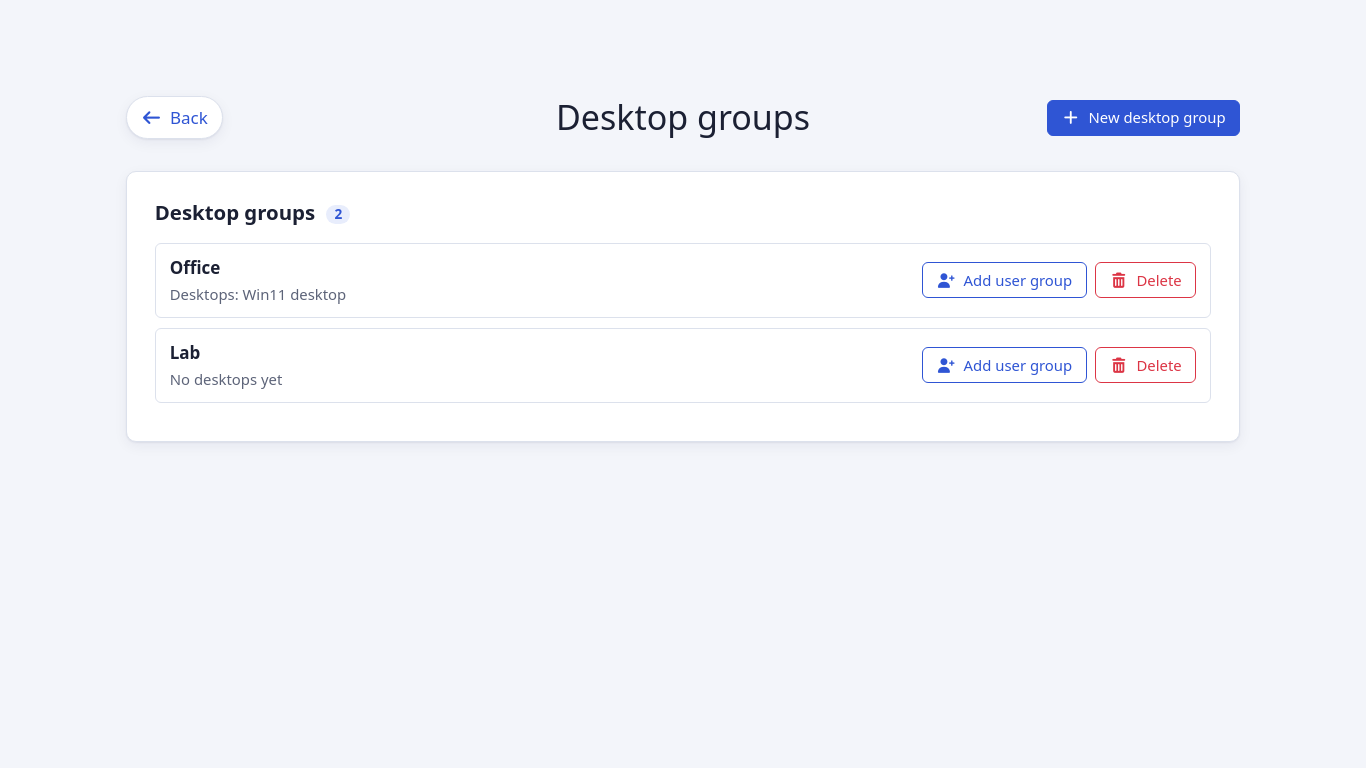
Test: adds a user group only after one is chosen
The width and height of the screenshot is (1366, 768).
Later steps or results of the test are not shown.
Click the button named "Add user group: Office" at (1004, 280), box [922,262,1087,298]
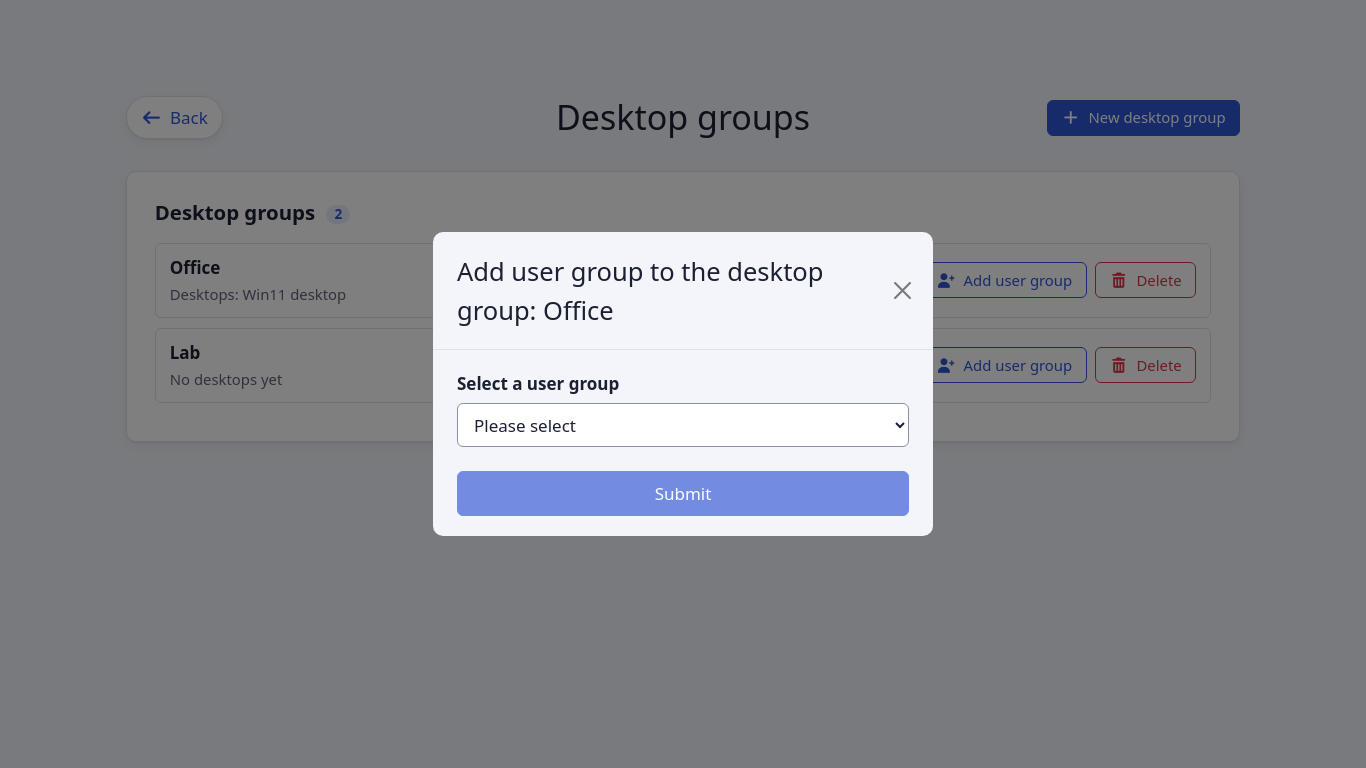
Check: the dropdown labelled "Select a user group" shows "Please select", box [457,403,909,447]
